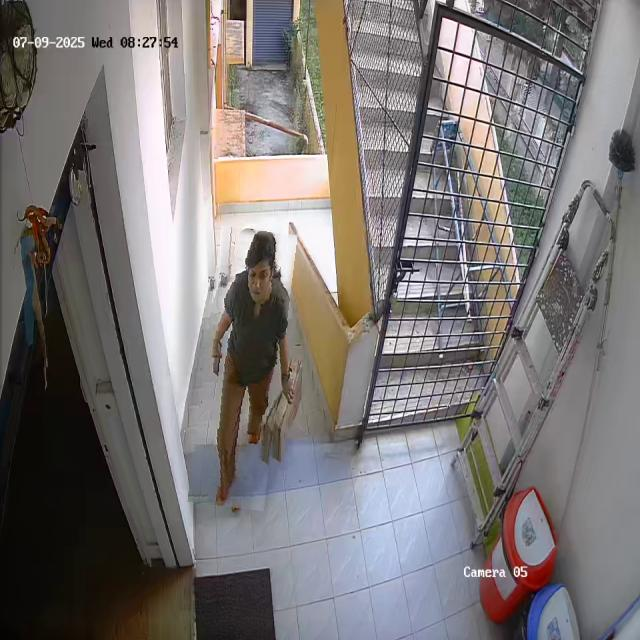person: (196, 228, 289, 510)
